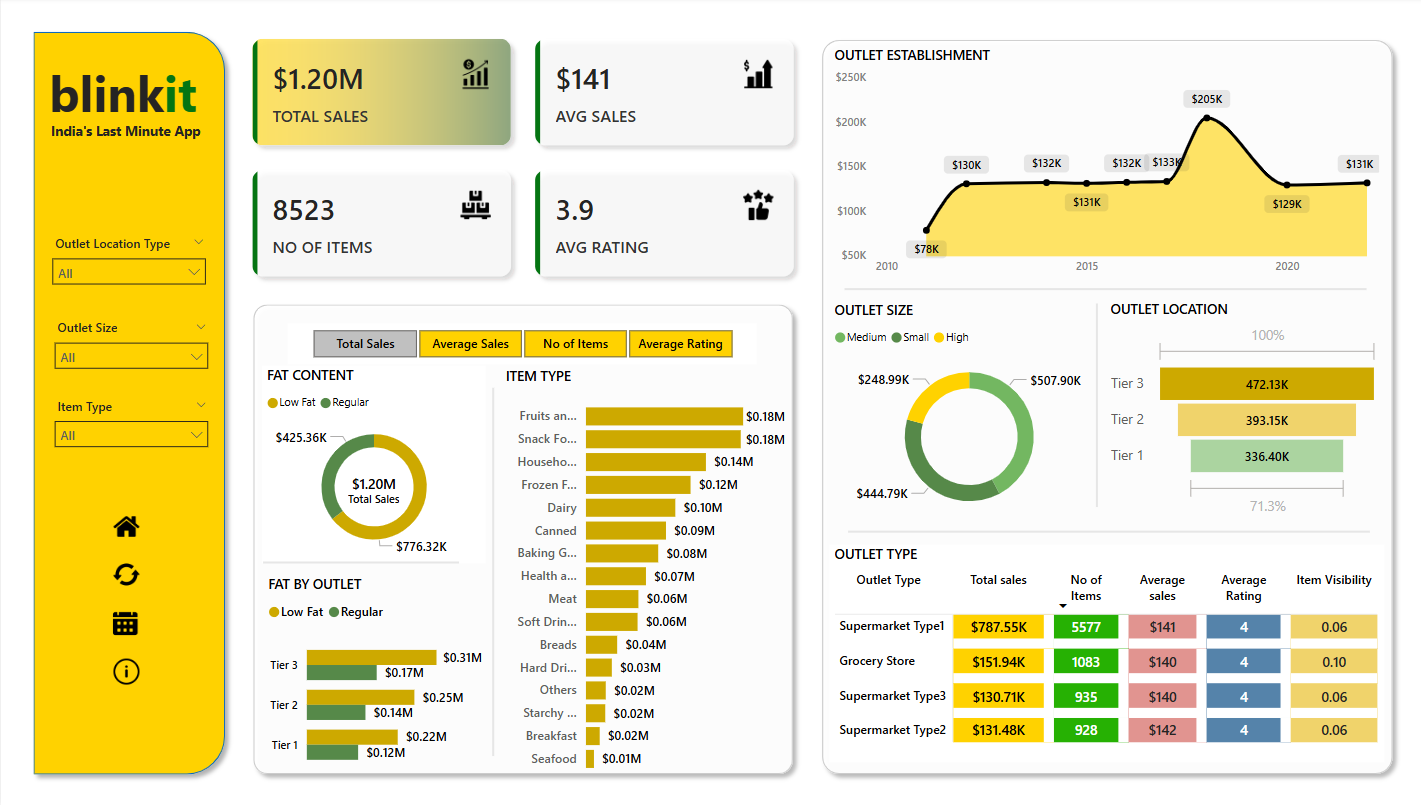

What the dashboard file says about the page in this screenshot:
{"tool":"powerbi","page":{"name":"Page 1","canvas":[1400,800],"ordinal":0},"visuals":[{"type":"shape","box":[23.6,24.8,206.7,750],"z":0},{"type":"textbox","box":[42.5,56.7,171.3,76.8],"z":1000},{"type":"textbox","box":[30,117.6,185.7,30],"z":2000},{"type":"cardVisual","fields":{"Data":["BlinkIT Grocery Data.Total sales","BlinkIT Grocery Data.Average sales","BlinkIT Grocery Data.No of Items","BlinkIT Grocery Data.Average of rating"]},"box":[230.3,24.2,569.8,269.4],"z":3000},{"type":"shape","box":[239.8,293.7,549.6,480.9],"z":4000},{"type":"donutChart","title":"FAT CONTENT","fields":{"Y":["BlinkIT Grocery Data.Total sales"],"Category":["BlinkIT Grocery Data.Item Fat Content"]},"box":[256.7,363,220.9,194.6],"z":5000},{"type":"slicer","fields":{"Values":["Metric.Metric"]},"box":[282.9,321.9,462,40.4],"z":6000},{"type":"cardVisual","fields":{"Data":["BlinkIT Grocery Data.Total sales"]},"box":[308.1,439.4,119.4,94.3],"z":7000},{"type":"clusteredBarChart","title":"FAT BY OUTLET","fields":{"Y":["BlinkIT Grocery Data.Total sales"],"Series":["BlinkIT Grocery Data.Item Fat Content"],"Category":["BlinkIT Grocery Data.Outlet Location Type"]},"box":[257.9,568.4,220.9,205.4],"z":8000},{"type":"shape","box":[257.9,546.9,193.4,21.5],"z":9000},{"type":"shape","box":[478.8,385.7,13.1,363],"z":10000},{"type":"barChart","title":"ITEM TYPE","fields":{"Y":["BlinkIT Grocery Data.Total sales"],"Category":["BlinkIT Grocery Data.Item Type"]},"box":[491.9,364.2,285.4,409.6],"z":11000},{"type":"shape","box":[800,33.4,580.3,741.5],"z":12000},{"type":"lineChart","title":"OUTLET ESTABLISHMENT","fields":{"Y":["BlinkIT Grocery Data.Total sales"],"Category":["BlinkIT Grocery Data.Outlet Establishment Year"]},"box":[816.7,47.8,546.9,235.2],"z":13000},{"type":"shape","box":[831.1,283,514.6,10.7],"z":14000},{"type":"donutChart","title":"OUTLET SIZE","fields":{"Y":["BlinkIT Grocery Data.Total sales"],"Category":["BlinkIT Grocery Data.Outlet Size"]},"box":[816.5,298.7,275.6,224.9],"z":15000},{"type":"shape","box":[1073.4,302.1,13.1,200.6],"z":16000},{"type":"funnel","title":"OUTLET LOCATION","fields":{"Y":["Sum(BlinkIT Grocery Data.Sales)"],"Category":["BlinkIT Grocery Data.Outlet Location Type"]},"box":[1088.6,297.5,274.5,220.3],"z":17000},{"type":"shape","box":[834.9,521.2,514.3,11.5],"z":18000},{"type":"pivotTable","title":"OUTLET TYPE","fields":{"Rows":["BlinkIT Grocery Data.Outlet Type"],"Values":["BlinkIT Grocery Data.Total sales","BlinkIT Grocery Data.No of Items","BlinkIT Grocery Data.Average sales","BlinkIT Grocery Data.Average Rating","Avg(BlinkIT Grocery Data.Item Visibility)"]},"box":[816.5,539.7,546.6,214.5],"z":19000},{"type":"slicer","fields":{"Values":["BlinkIT Grocery Data.Outlet Location Type"]},"box":[40.4,229.5,171.8,72.6],"z":20000},{"type":"slicer","fields":{"Values":["BlinkIT Grocery Data.Outlet Size"]},"box":[42.7,312.5,171.8,72.7],"z":21000},{"type":"slicer","fields":{"Values":["BlinkIT Grocery Data.Item Type"]},"box":[43,389.3,171.9,71.6],"z":22000},{"type":"image","box":[98.6,504.4,51,35.9],"z":23000},{"type":"image","box":[98.6,550.8,51,35.9],"z":24000},{"type":"image","box":[97.4,599.5,51,35.9],"z":25000},{"type":"image","box":[98.6,647,51,35.9],"z":26000}]}

Visuals, with their boxes in screenshot pixels (x1, y1, x2, y2), scaled from the page's 1400x800 canvas onto the 1421x805 screenshot:
shape: (24,25,234,780)
textbox: (43,57,217,134)
textbox: (30,118,219,149)
cardVisual - BlinkIT Grocery Data.Total sales x BlinkIT Grocery Data.Average sales: (234,24,812,295)
shape: (243,296,801,779)
"FAT CONTENT" donutChart: (261,365,485,561)
slicer - Metric.Metric: (287,324,756,365)
cardVisual - BlinkIT Grocery Data.Total sales: (313,442,434,537)
"FAT BY OUTLET" clusteredBarChart: (262,572,486,779)
shape: (262,550,458,572)
shape: (486,388,499,753)
"ITEM TYPE" barChart: (499,366,789,779)
shape: (812,34,1401,780)
"OUTLET ESTABLISHMENT" lineChart: (829,48,1384,285)
shape: (844,285,1366,296)
"OUTLET SIZE" donutChart: (829,301,1108,527)
shape: (1090,304,1103,506)
"OUTLET LOCATION" funnel: (1105,299,1384,521)
shape: (847,524,1369,536)
"OUTLET TYPE" pivotTable: (829,543,1384,759)
slicer - BlinkIT Grocery Data.Outlet Location Type: (41,231,215,304)
slicer - BlinkIT Grocery Data.Outlet Size: (43,314,218,388)
slicer - BlinkIT Grocery Data.Item Type: (44,392,218,464)
image: (100,508,152,544)
image: (100,554,152,590)
image: (99,603,151,639)
image: (100,651,152,687)
